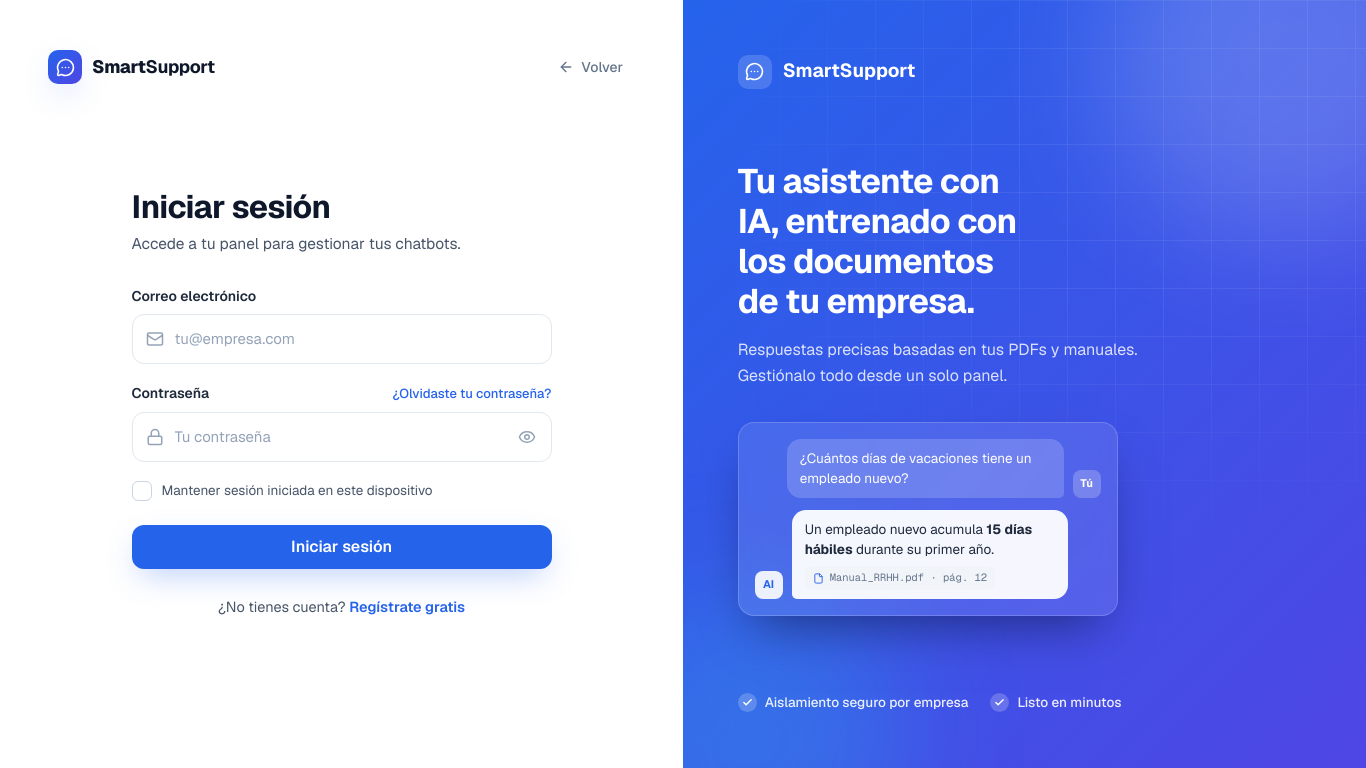
LoginPage › muestra error si el email es inválido
Type "no-es-email" into the field labelled "Correo electrónico". click: (342, 339)
box: top-left (132, 314), bottom-right (552, 364)
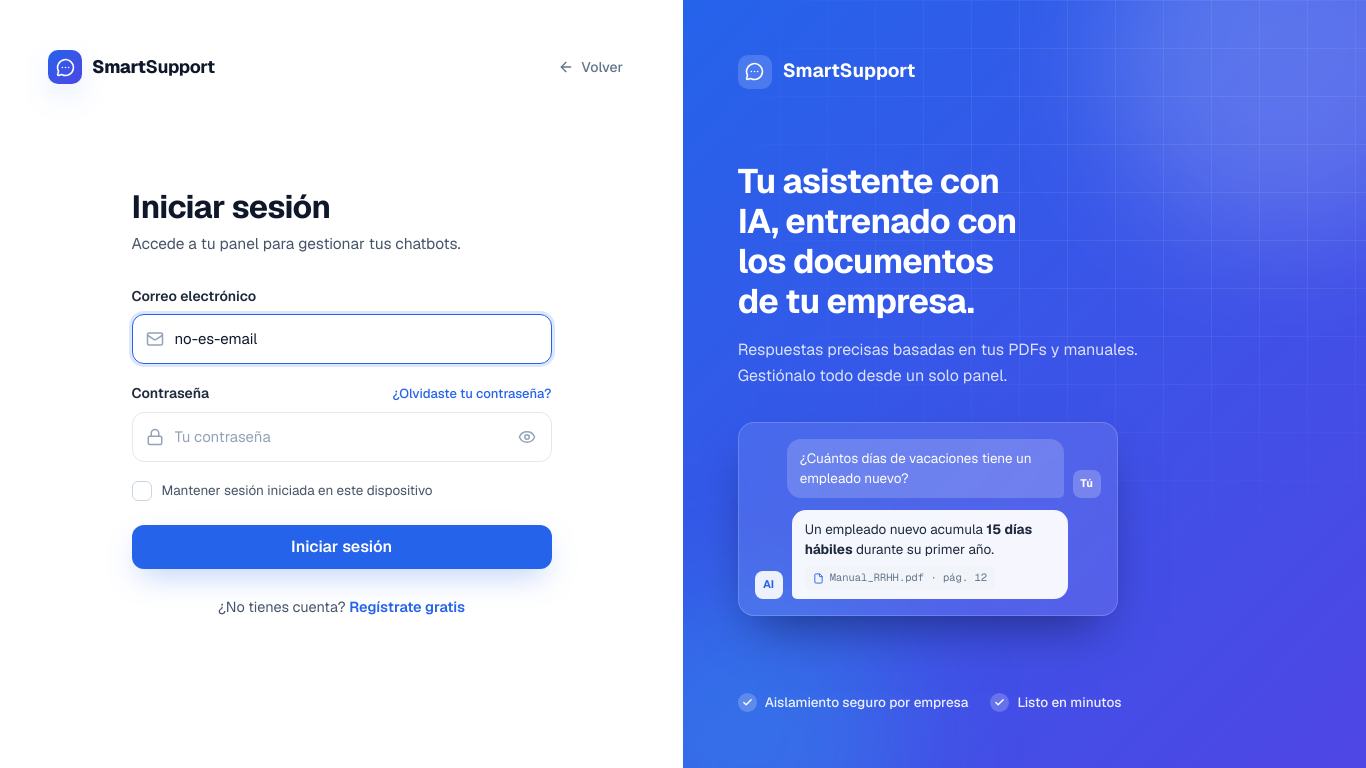
Click the button "Iniciar sesión". click: click(342, 547)
box: top-left (132, 525), bottom-right (552, 569)
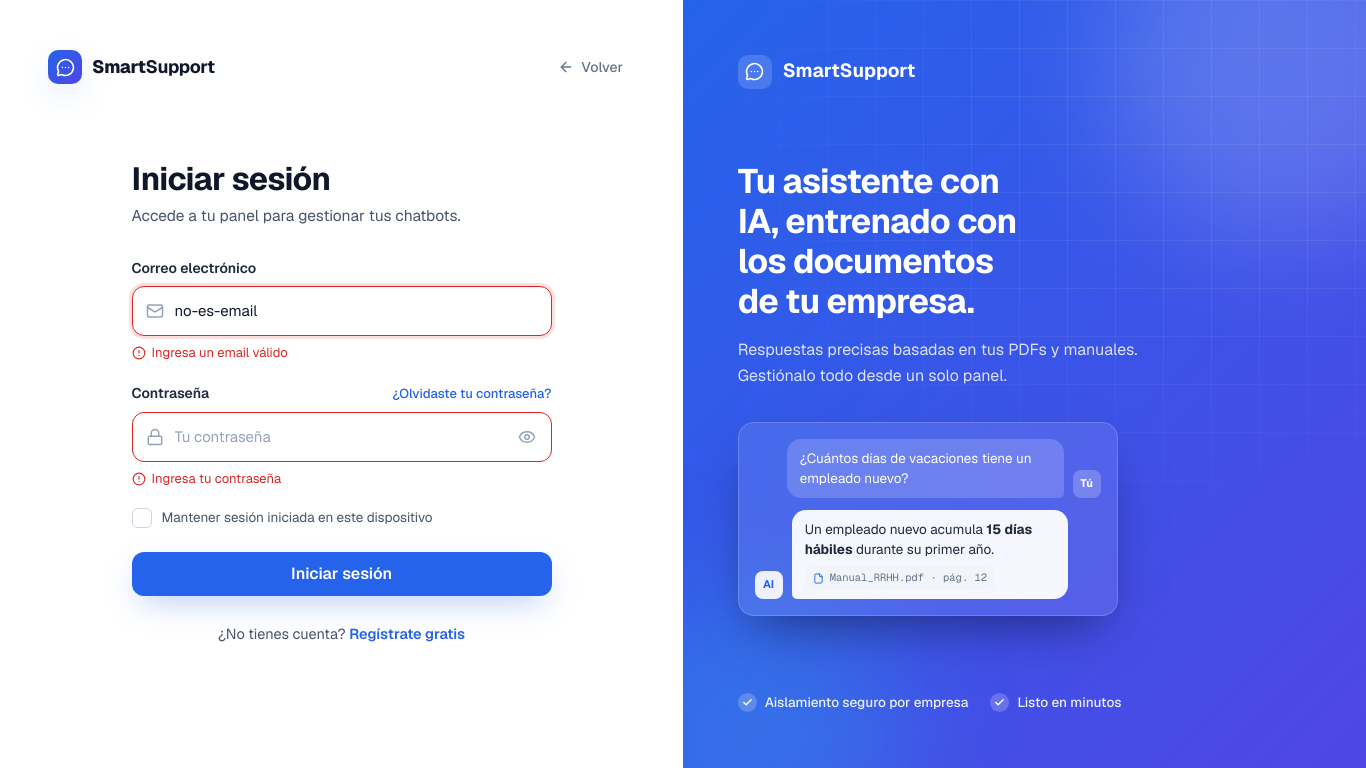
Expected: the text "Ingresa un email válido" is shown, top-left (132, 344), bottom-right (288, 361)
